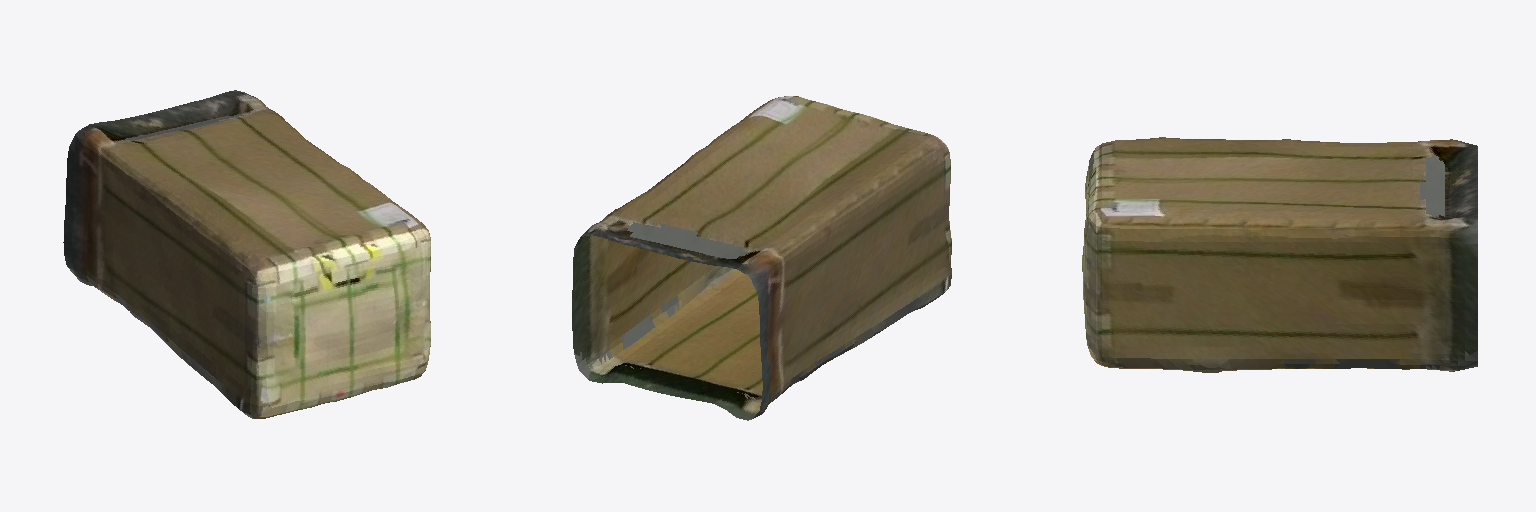
3 views of the same model, side by side, from view 1: azimuth 30°, elevation 25°; view 2: azimuth 150°, elevation 25°; view 3: azimuth 270°, elevation 25° (orthographic).
Size of the model in its own units: 0.5637 by 0.4441 by 0.9971.
Materials: 1 (1 with a texture image).